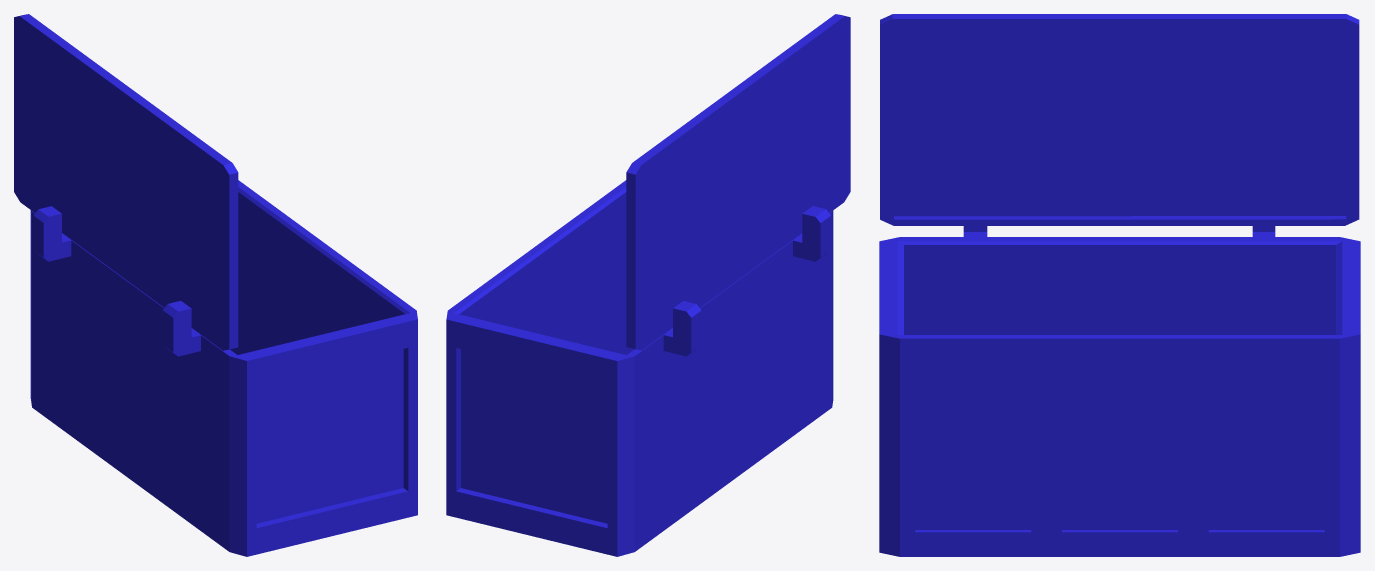
File: Cassa.fbx
The picture shows the model from 3 angles, left to right: view 1: azimuth 30°, elevation 25°; view 2: azimuth 150°, elevation 25°; view 3: azimuth 270°, elevation 25°; orthographic projection. The views are drawn at different scales.
Visible parts, largest first — view 1: Chest_Bottom, Chest_Top; view 2: Chest_Bottom, Chest_Top; view 3: Chest_Bottom, Chest_Top.
Part boxes in pixels (bbox=[...]): Chest_Bottom: bbox=[30, 180, 417, 556]; Chest_Top: bbox=[14, 14, 238, 356]; Chest_Bottom: bbox=[446, 180, 833, 556]; Chest_Top: bbox=[626, 14, 850, 356]; Chest_Bottom: bbox=[879, 237, 1360, 556]; Chest_Top: bbox=[880, 14, 1359, 236].
Size of the model in its own units: 229 by 400 by 400.
